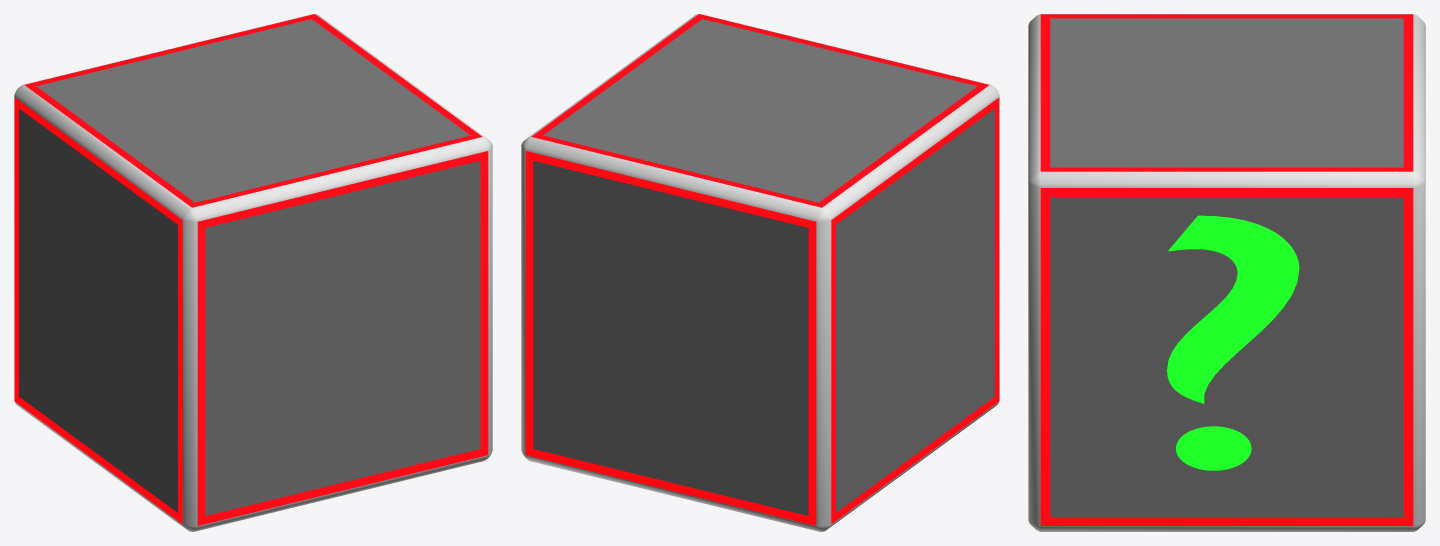
File: MysteryBox.fbx
The picture shows the model from 3 angles, left to right: view 1: azimuth 30°, elevation 25°; view 2: azimuth 150°, elevation 25°; view 3: azimuth 270°, elevation 25°; orthographic projection. The views are drawn at different scales.
Parts seen in each view (by area): view 1: Cube; view 2: Cube; view 3: Cube.
Part boxes in pixels (bbox=[...]): Cube: bbox=[14, 14, 492, 531]; Cube: bbox=[521, 14, 999, 531]; Cube: bbox=[1028, 14, 1425, 531].
Size of the model in its own units: 202 by 200 by 200.
